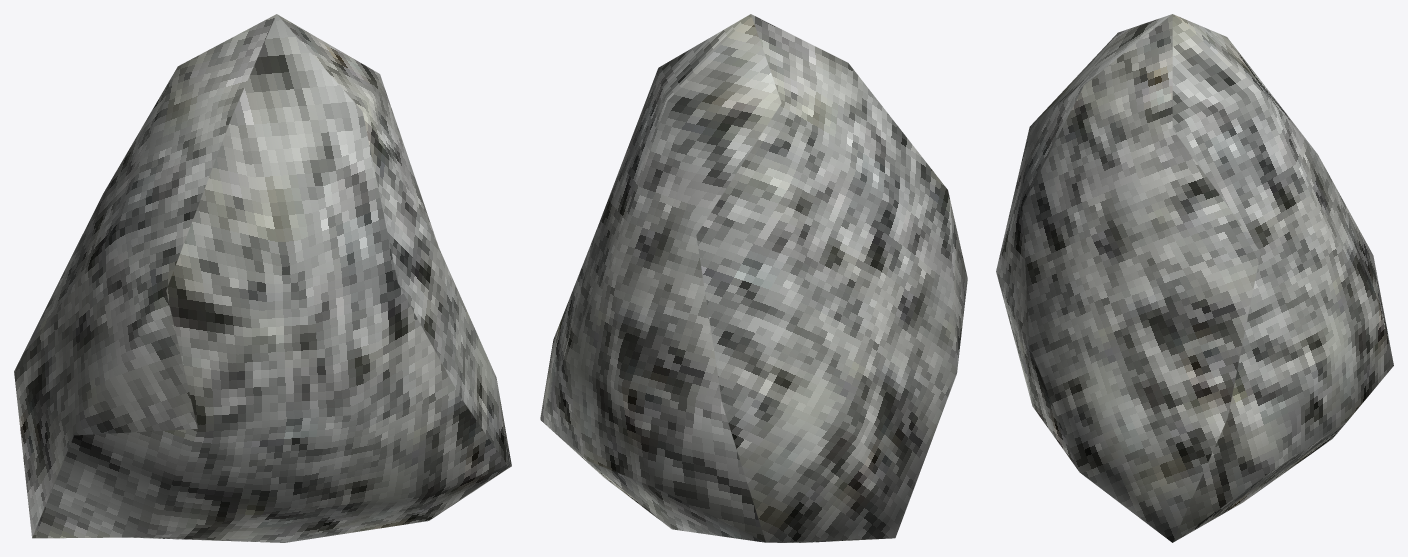
The model's file is kaya.fbx.
3 renders of one model, left to right at view 1: azimuth 30°, elevation 25°; view 2: azimuth 150°, elevation 25°; view 3: azimuth 270°, elevation 25°, orthographic. The views are drawn at different scales.
Visible parts, largest first — view 1: kaya; view 2: kaya; view 3: kaya.
Part boxes in pixels (bbox=[...]): kaya: bbox=[14, 14, 511, 542]; kaya: bbox=[540, 14, 967, 542]; kaya: bbox=[996, 14, 1393, 542].
Size of the model in its own units: 250 by 281 by 225.
